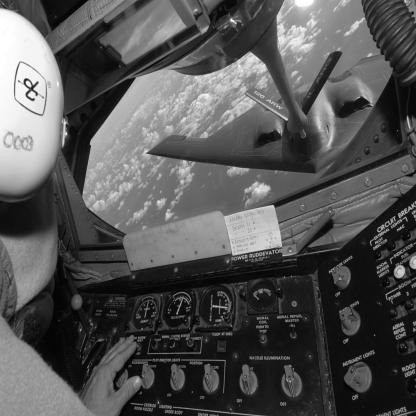B2: (146, 55, 394, 175)
